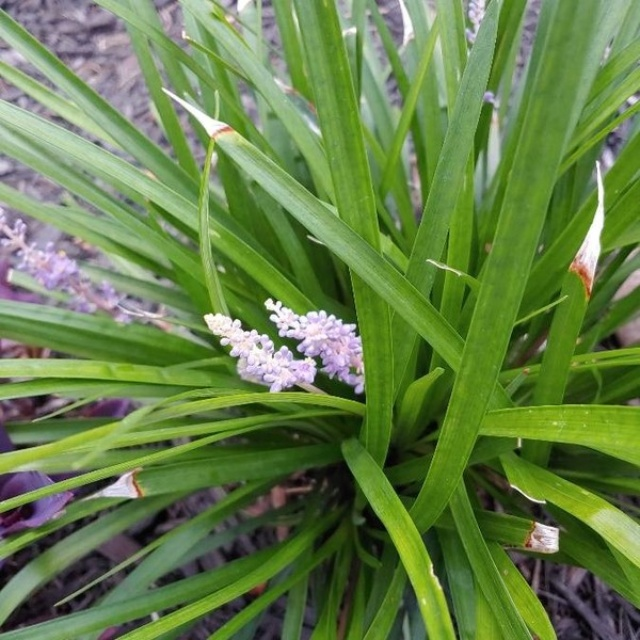obstacle: (68, 60, 577, 605)
